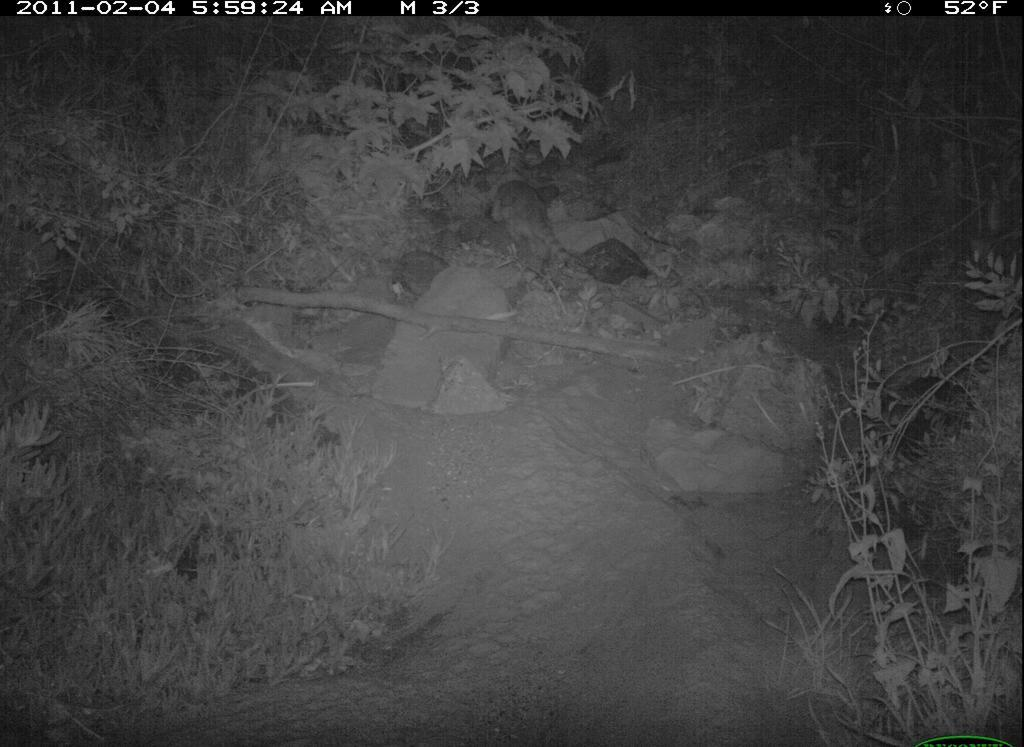raccoon: (490, 177, 577, 267)
